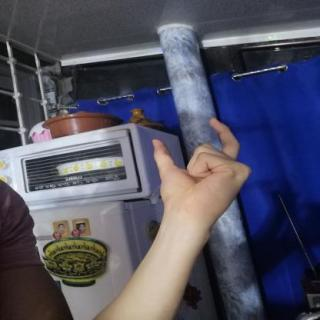NOON: (144, 112, 260, 228)
